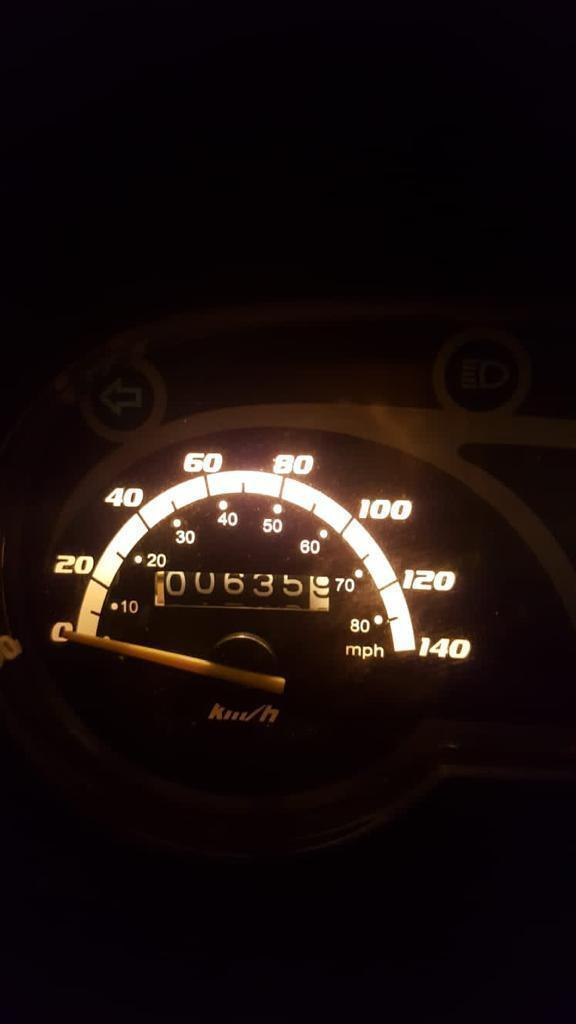0: (164, 569, 188, 599), (193, 570, 217, 596)
3: (252, 571, 276, 599)
5: (281, 571, 305, 598)
6: (221, 569, 246, 596)
9: (311, 573, 332, 600)
odometer: (150, 568, 334, 616)
